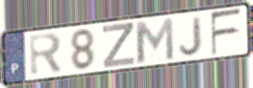8: (68, 27, 96, 72)
F: (209, 7, 243, 58)
J: (178, 15, 204, 58)
M: (133, 16, 176, 65)
R: (28, 30, 65, 78)
Z: (102, 22, 137, 70)
